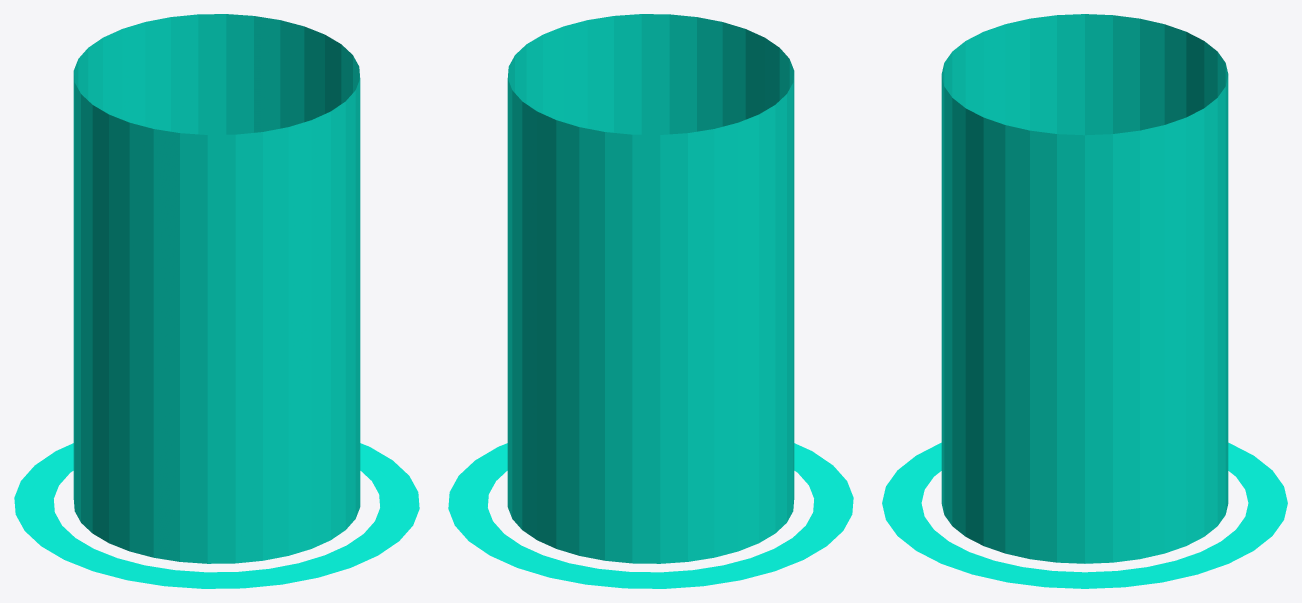
The model's file is guangbiao_01.FBX.
3 views of the same model, side by side, from view 1: azimuth 30°, elevation 25°; view 2: azimuth 150°, elevation 25°; view 3: azimuth 270°, elevation 25° (orthographic).
Parts seen in each view (by area): view 1: 对象001; view 2: 对象001; view 3: 对象001.
Boxes of the visible parts, x1=… form: 对象001: x1=14, y1=14, x2=419, y2=588; 对象001: x1=448, y1=14, x2=853, y2=588; 对象001: x1=882, y1=14, x2=1287, y2=588.
Size of the model in its own units: 75.67 by 88.15 by 75.67.
Materials: 1 (1 with a texture image).
